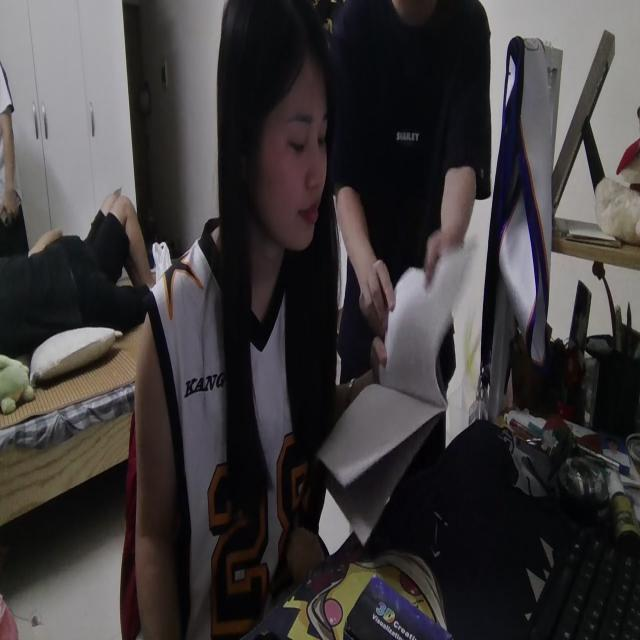book: (324, 216, 473, 487)
extra_person: (328, 0, 498, 429), (2, 189, 148, 358), (0, 60, 29, 264)
student: (135, 0, 343, 640)
